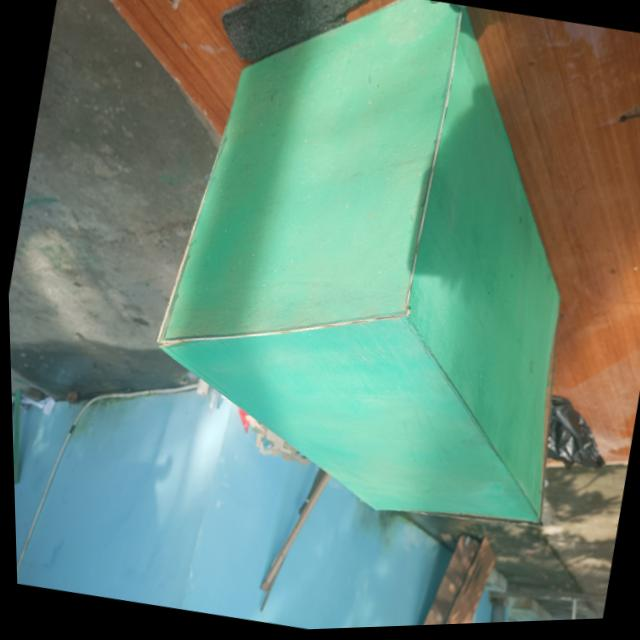green_box: (96, 0, 640, 588)
